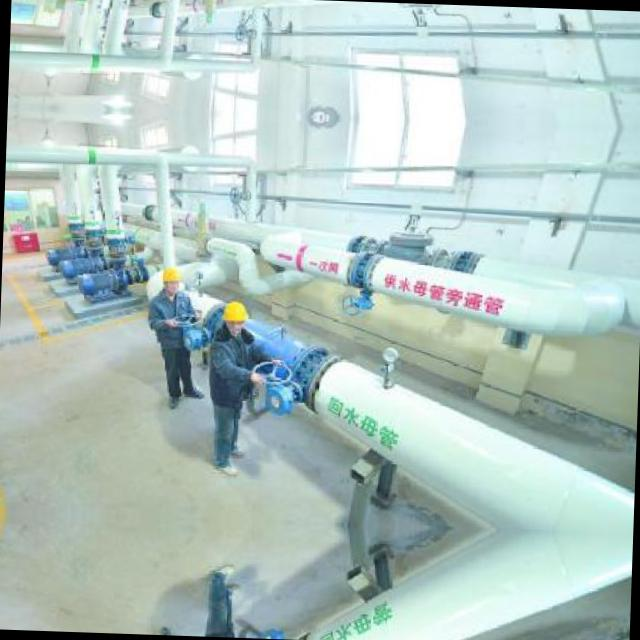helmet: (219, 296, 246, 338), (159, 263, 182, 296)
